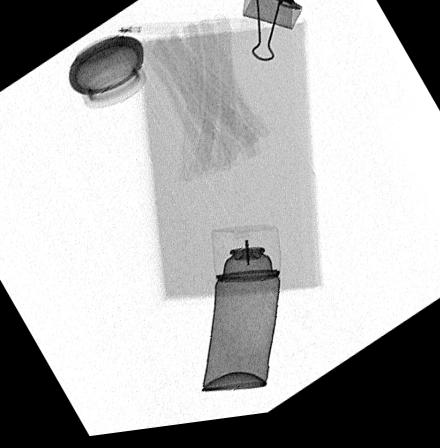Sprayer: (200, 231, 280, 398)
